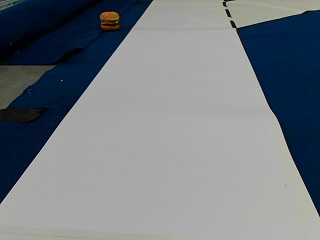burger: (99, 10, 121, 31)
